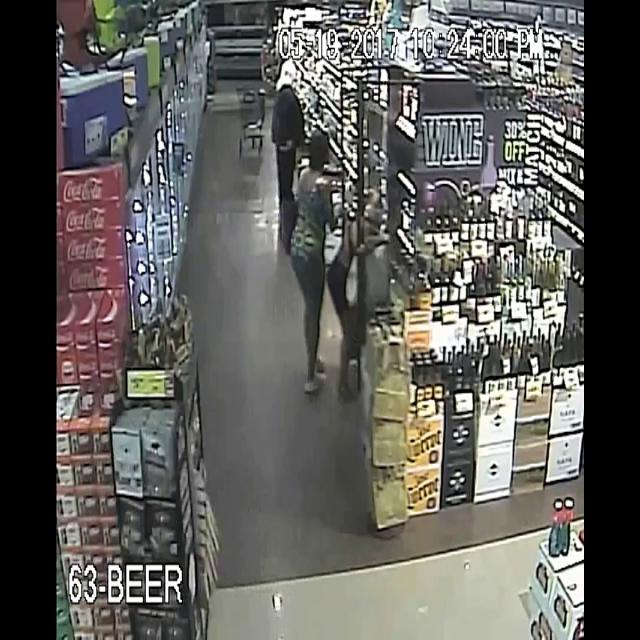normal: (278, 122, 337, 388), (266, 57, 306, 160)
shoplifting: (335, 183, 410, 386)
